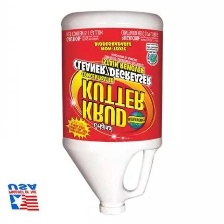cleaning_solution: (58, 7, 165, 218)
